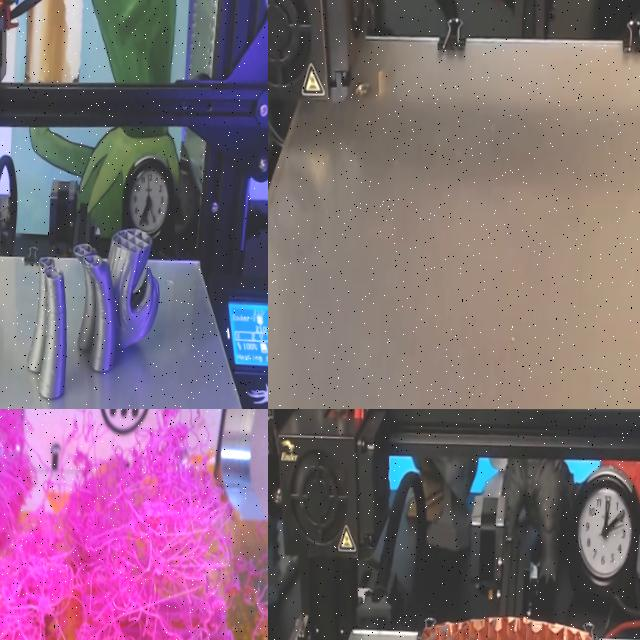spaghetti: (0, 409, 268, 640)
